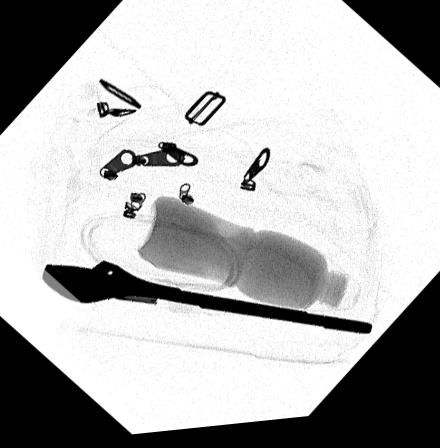Wrench: (37, 260, 371, 341)
